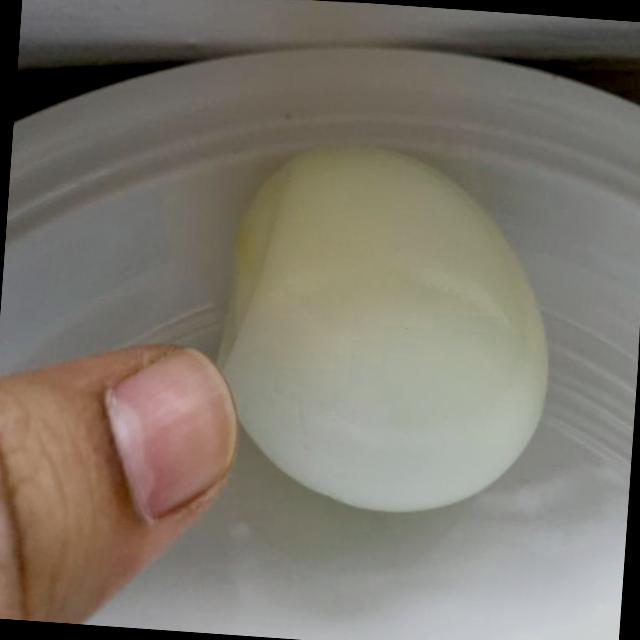Egg: (224, 125, 582, 532)
Finger: (0, 321, 252, 619)
